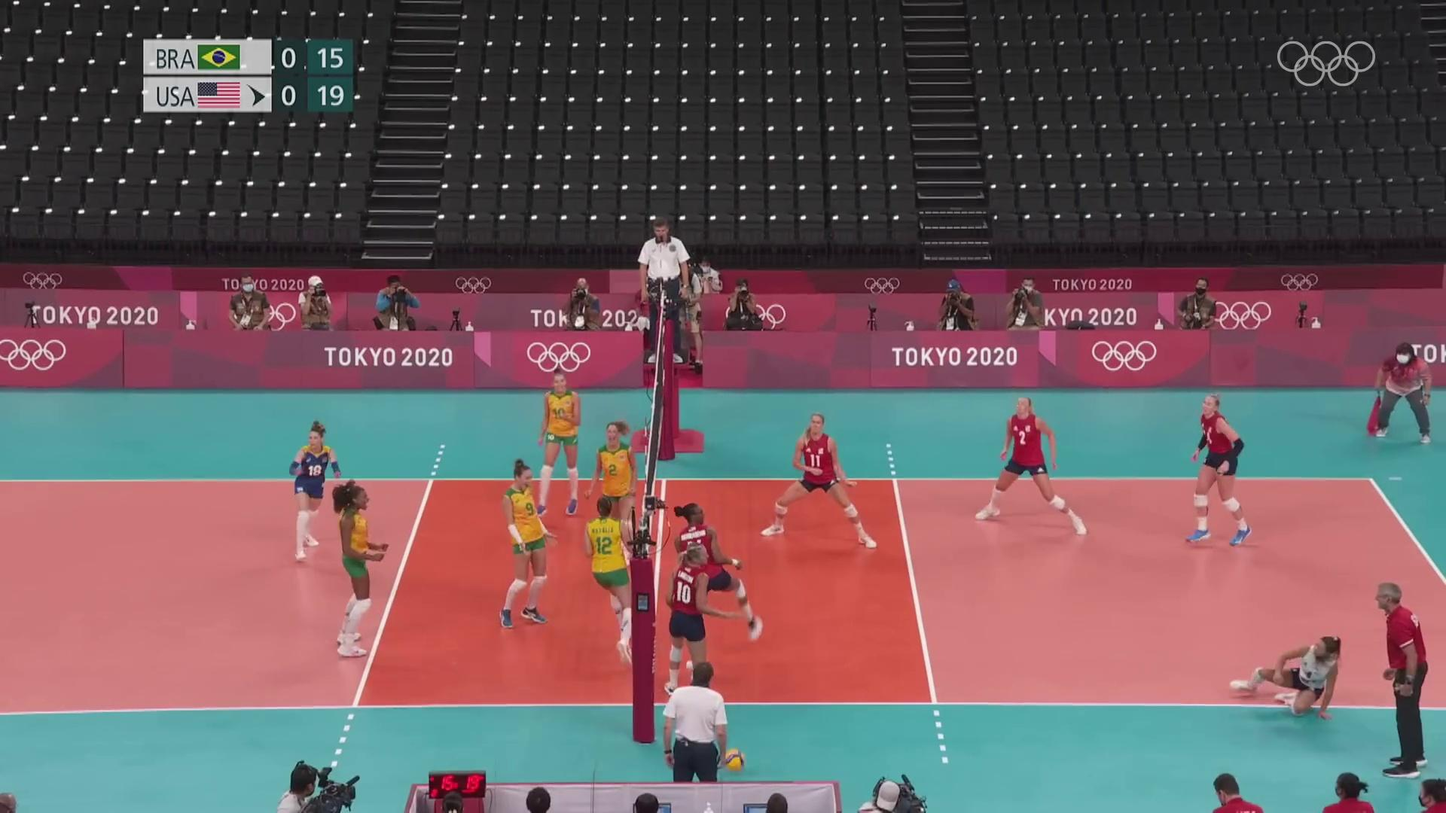player: (975, 394, 1093, 527), (673, 502, 767, 664), (768, 412, 877, 549), (581, 500, 641, 667), (495, 463, 551, 630), (331, 483, 384, 656), (664, 548, 721, 705), (1192, 393, 1251, 544), (1233, 633, 1342, 713), (530, 367, 581, 516), (288, 422, 342, 556), (594, 419, 641, 563)
refree: (665, 663, 731, 788), (636, 216, 690, 363), (1372, 336, 1435, 445)
